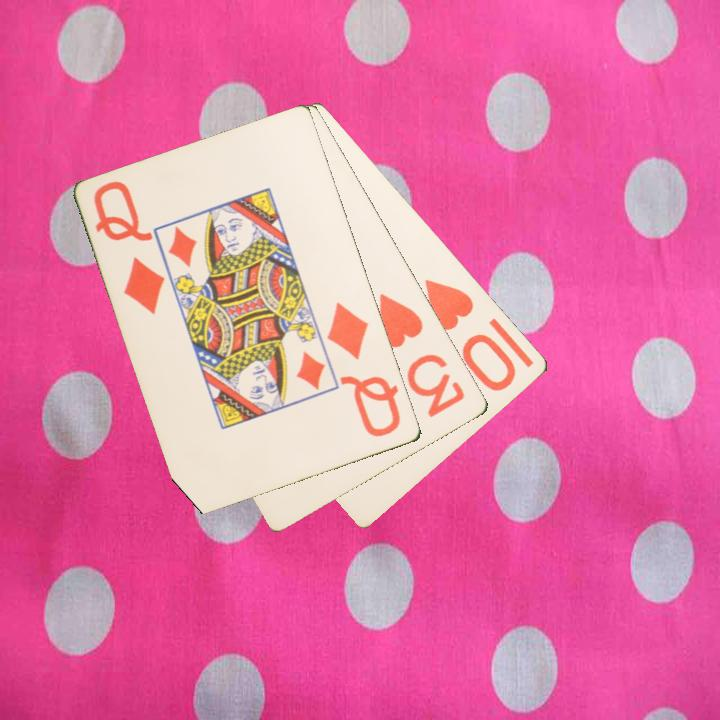10h: (421, 275, 520, 395)
3h: (376, 290, 469, 421)
Qd: (324, 299, 404, 441), (90, 175, 169, 318)
